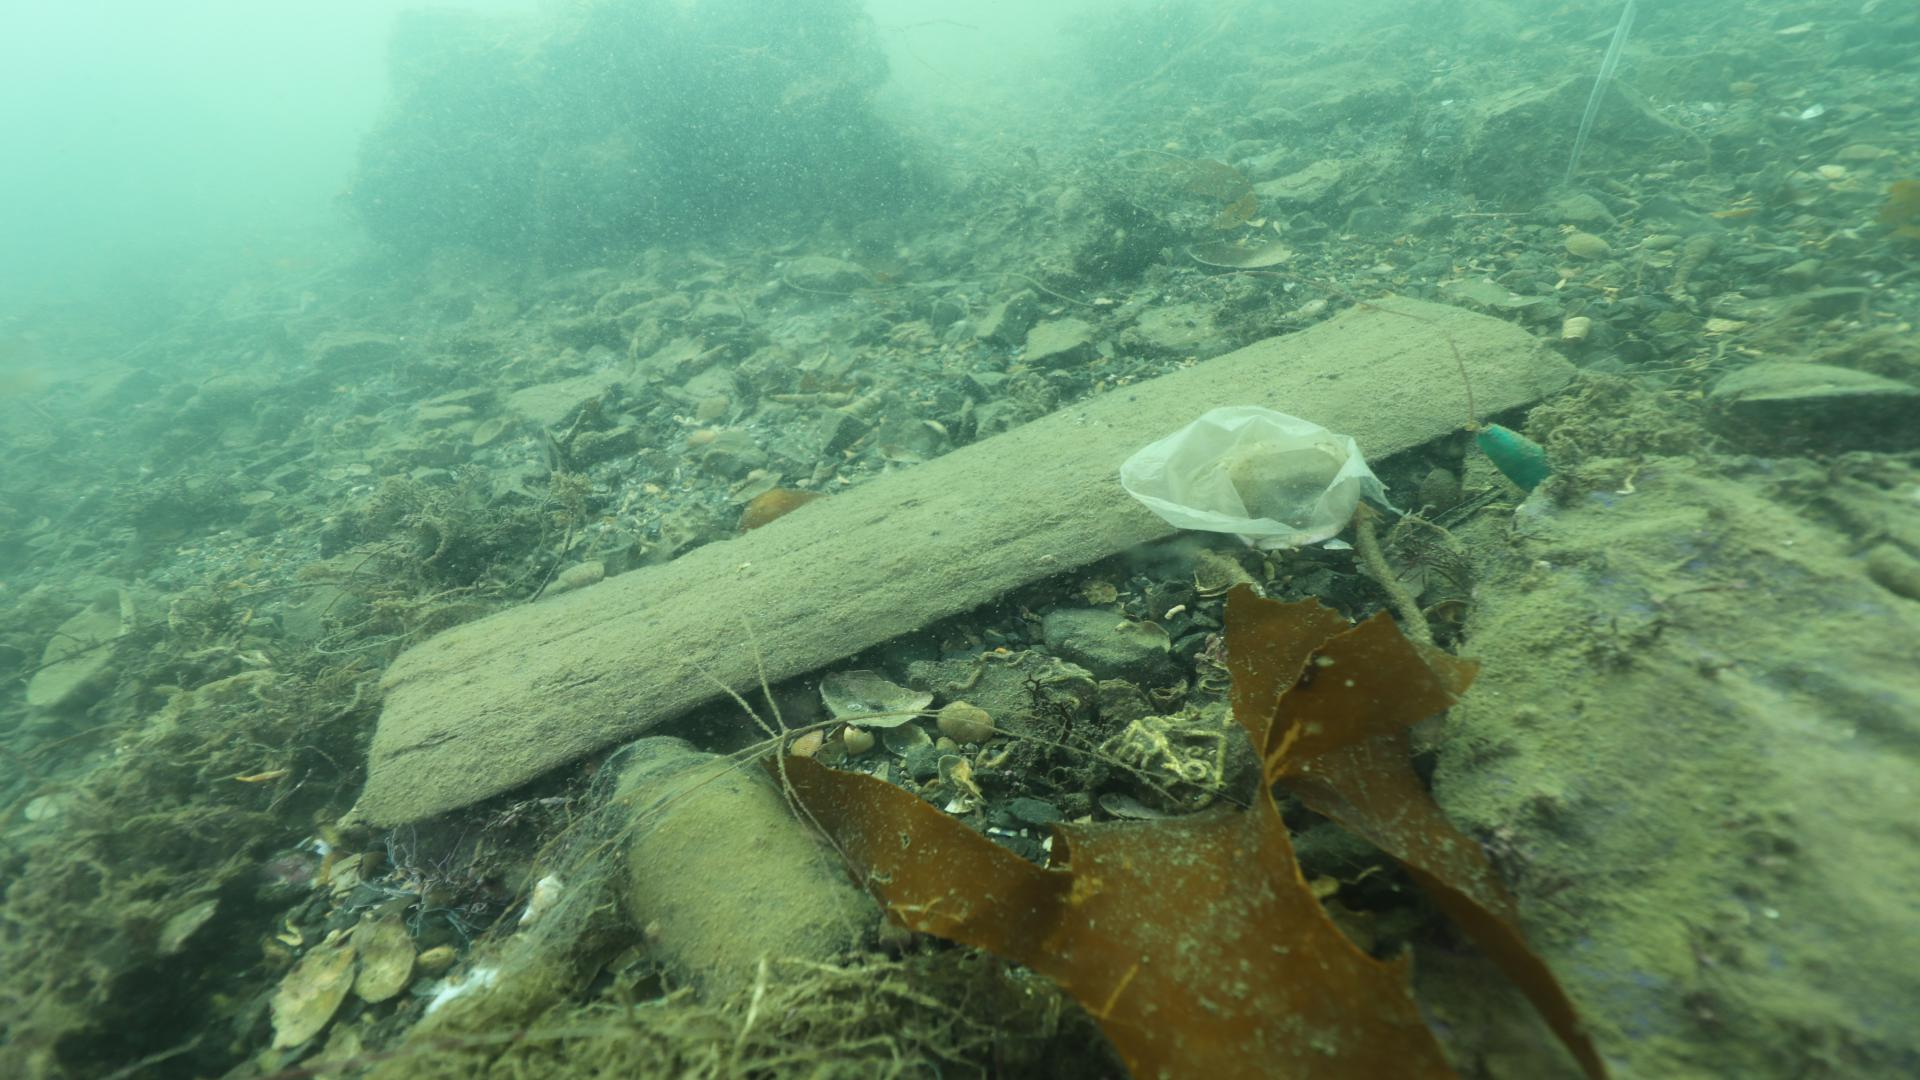wood: (359, 290, 1586, 840)
